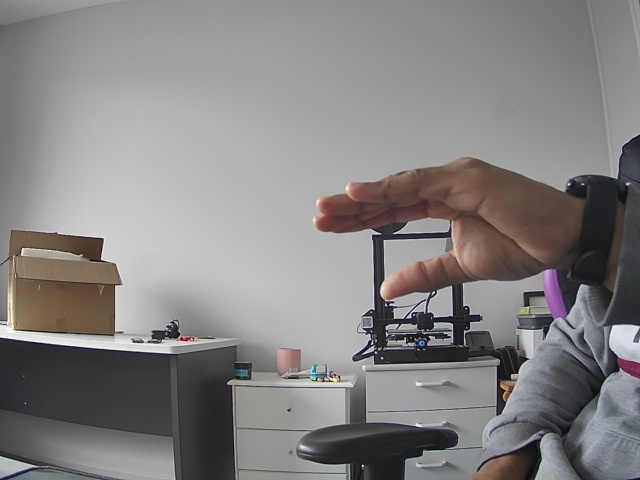No: (278, 148, 606, 302)
